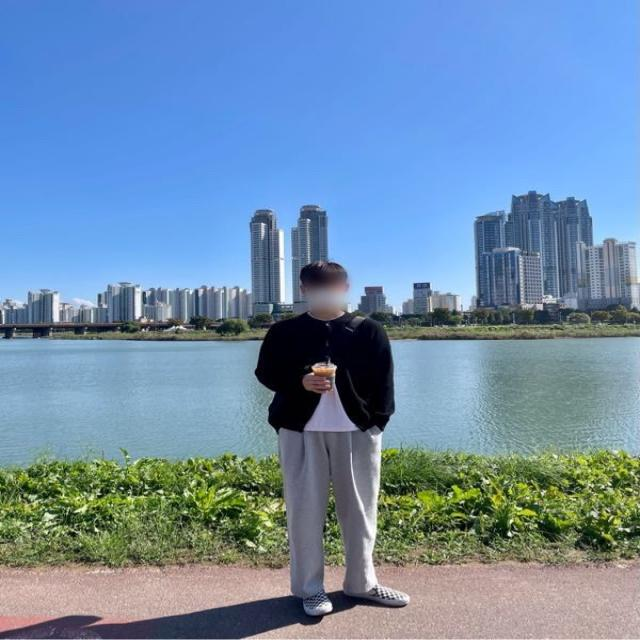cardigan: (255, 307, 394, 439)
trainingpants: (275, 418, 389, 602)
